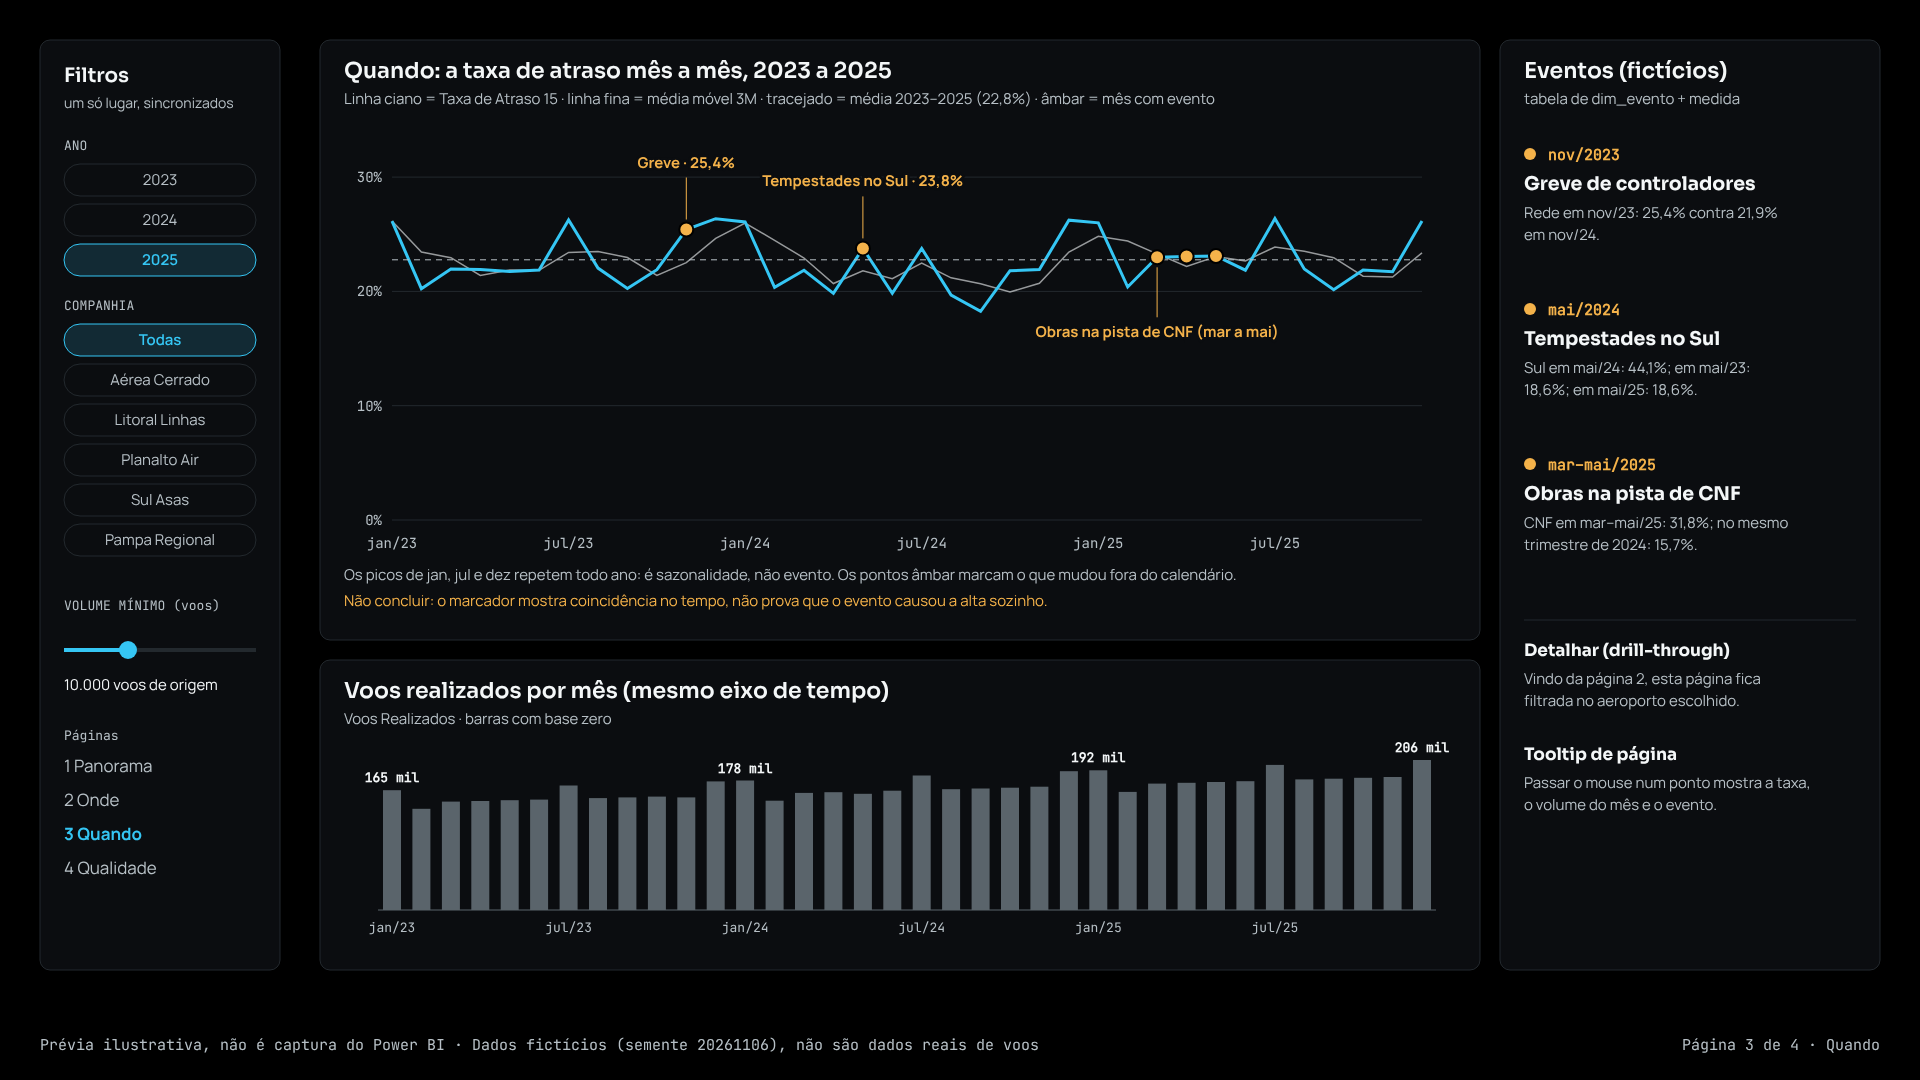

What the dashboard file says about the page in this screenshot:
{"tool":"powerbi","page":{"name":"Quando","canvas":[1280,720],"ordinal":2},"visuals":[{"type":"textbox","box":[16,10,168,68],"z":1},{"type":"textbox","box":[200,8,860,74],"z":2},{"type":"textbox","box":[1076,10,188,68],"z":3},{"type":"slicer","title":"Ano","fields":{"Values":["dim_calendario.ano"]},"box":[16,84,168,104],"z":9},{"type":"slicer","title":"Companhia","fields":{"Values":["dim_companhia.companhia"]},"box":[16,198,168,200],"z":10},{"type":"slicer","title":"Volume mínimo (voos)","fields":{"Values":["Param Volume Minimo.Value"]},"box":[16,408,168,96],"z":11},{"type":"lineChart","title":"Taxa de atraso, média móvel de 3 meses e meses com evento","fields":{"Category":["dim_calendario.mes_ano"],"Y":["_Medidas.Taxa de Atraso 15","_Medidas.Taxa de Atraso (média móvel 3M)","_Medidas.Marcador de Evento (série)"]},"box":[200,84,820,290],"z":20},{"type":"columnChart","title":"Voos realizados por mês","fields":{"Category":["dim_calendario.mes_ano"],"Y":["_Medidas.Voos Realizados"]},"box":[200,384,820,248],"z":21},{"type":"pivotTable","title":"Eventos (fictícios)","fields":{"Rows":["dim_evento.rotulo"]},"box":[1036,84,228,200],"z":22},{"type":"textbox","box":[1036,294,228,338],"z":23},{"type":"textbox","box":[200,640,1064,42],"z":24}]}

Visuals, with their boxes in screenshot pixels (x1, y1, x2, y2), scaled from the page's 1280x720 canvas onto the 1920x1080 screenshot:
textbox: region(24, 15, 276, 117)
textbox: region(300, 12, 1590, 123)
textbox: region(1614, 15, 1896, 117)
"Ano" slicer: region(24, 126, 276, 282)
"Companhia" slicer: region(24, 297, 276, 597)
"Volume mínimo (voos)" slicer: region(24, 612, 276, 756)
"Taxa de atraso, média móvel de 3 meses e meses com evento" lineChart: region(300, 126, 1530, 561)
"Voos realizados por mês" columnChart: region(300, 576, 1530, 948)
"Eventos (fictícios)" pivotTable: region(1554, 126, 1896, 426)
textbox: region(1554, 441, 1896, 948)
textbox: region(300, 960, 1896, 1023)
